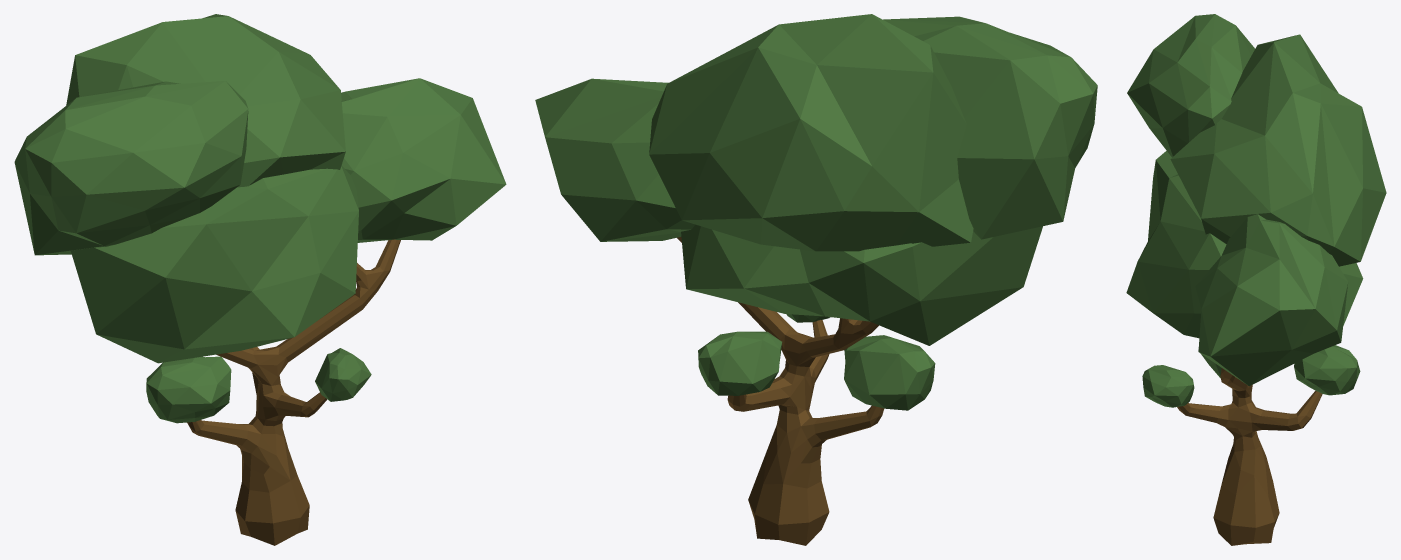
File: Tree2.3.glb
The picture shows the model from 3 angles, left to right: view 1: azimuth 30°, elevation 25°; view 2: azimuth 150°, elevation 25°; view 3: azimuth 270°, elevation 25°; orthographic projection. The views are drawn at different scales.
Parts seen in each view (by area): view 1: Tree2.3; view 2: Tree2.3; view 3: Tree2.3.
Part boxes in pixels (x1,y1,x2,y2): Tree2.3: [14, 14, 506, 545]; Tree2.3: [535, 14, 1097, 545]; Tree2.3: [1126, 14, 1386, 545].
Bounding box in the file's own units: 5.67 × 5.9 × 3.02.
